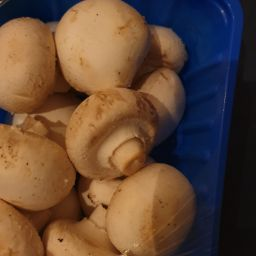Mushrooms: (12, 8, 200, 256), (77, 153, 226, 256), (51, 83, 179, 181), (123, 14, 200, 146), (50, 3, 156, 88), (2, 116, 82, 218), (3, 14, 57, 121), (36, 188, 117, 256), (2, 193, 64, 256)
